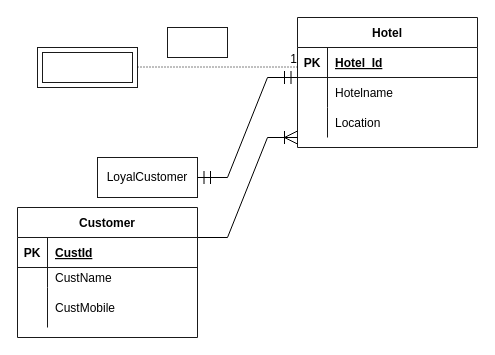
The diagram is 495 pixels wide and 355 high, and some of its shapes have lost their labels. The shapes that lost their labels are listed below. From the top down, each one's centre as x and y in pixels, then its label:
point (197, 42): Optional
point (87, 67): First_Customer
